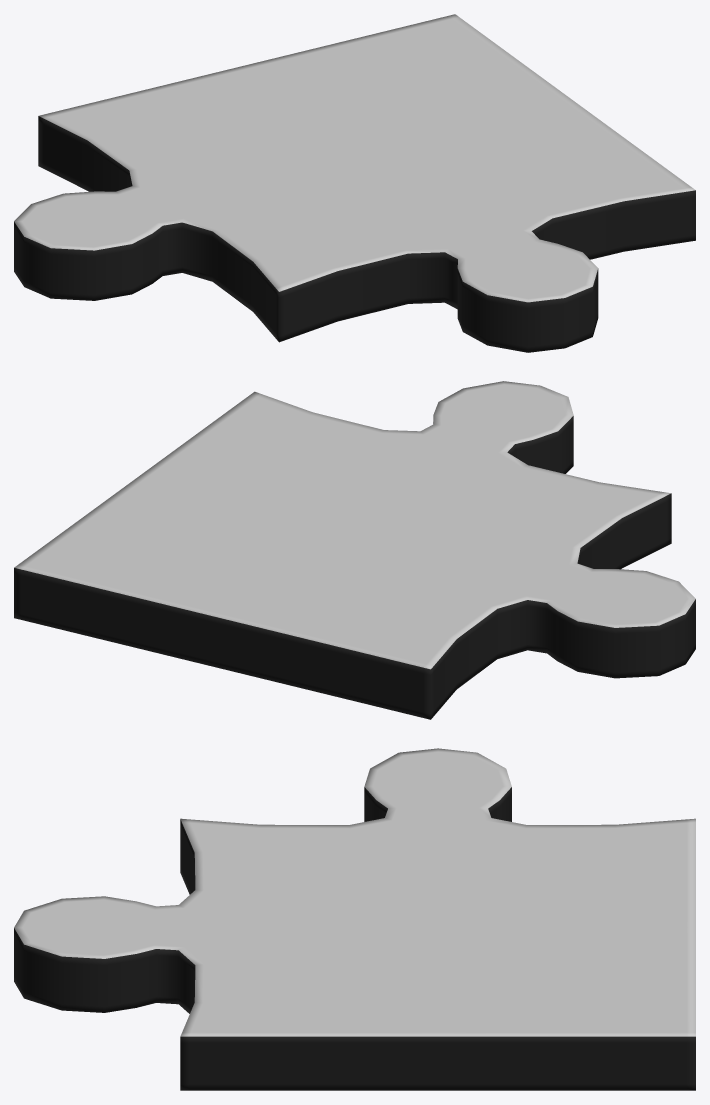
The picture shows the model from 3 angles, top to bottom: view 1: azimuth 30°, elevation 25°; view 2: azimuth 150°, elevation 25°; view 3: azimuth 270°, elevation 25°; orthographic projection. The views are drawn at different scales.
Visible parts, largest first — view 1: puzzle63; view 2: puzzle63; view 3: puzzle63.
Boxes of the visible parts, box(x1,y1,x2,y2) form: puzzle63: box(14, 14, 695, 352); puzzle63: box(14, 381, 695, 719); puzzle63: box(14, 748, 695, 1090).
Bounding box in the file's own units: 3.94 × 0.344 × 3.94.
